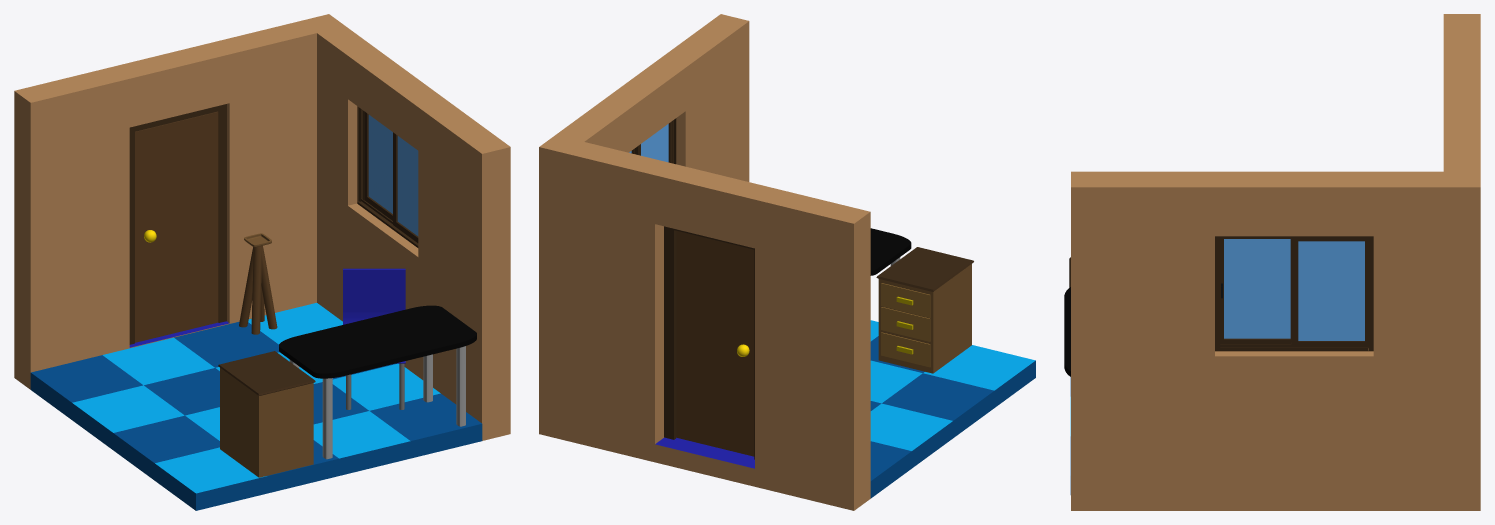
The model's file is room.glb.
3 views of the same model, side by side, from view 1: azimuth 30°, elevation 25°; view 2: azimuth 150°, elevation 25°; view 3: azimuth 270°, elevation 25° (orthographic). The views are drawn at different scales.
Visible parts, largest first — view 1: Room, Desk, Drawer, Chair, Cube.007; view 2: Room, Drawer, Desk; view 3: Room, Desk.
Boxes of the visible parts, x1=… form: Room: x1=14, y1=14, x2=510, y2=510; Desk: x1=279, y1=305, x2=476, y2=459; Drawer: x1=218, y1=351, x2=315, y2=477; Chair: x1=343, y1=268, x2=405, y2=409; Cube.007: x1=239, y1=233, x2=277, y2=334; Room: x1=539, y1=14, x2=1035, y2=510; Drawer: x1=876, y1=247, x2=973, y2=373; Desk: x1=870, y1=228, x2=911, y2=275; Room: x1=1070, y1=14, x2=1480, y2=510; Desk: x1=1064, y1=287, x2=1070, y2=376.
Bounding box in the file's own units: 2.2 × 1.92 × 2.24.
1 material, 1 textured.
